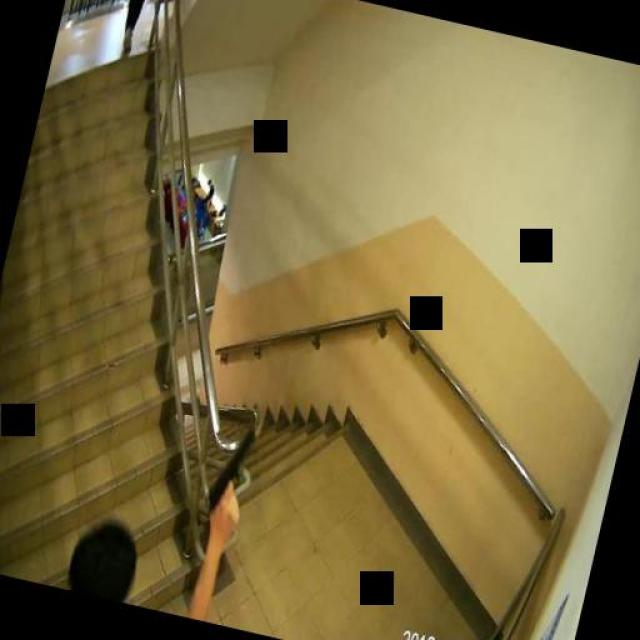gun: (204, 420, 260, 528)
